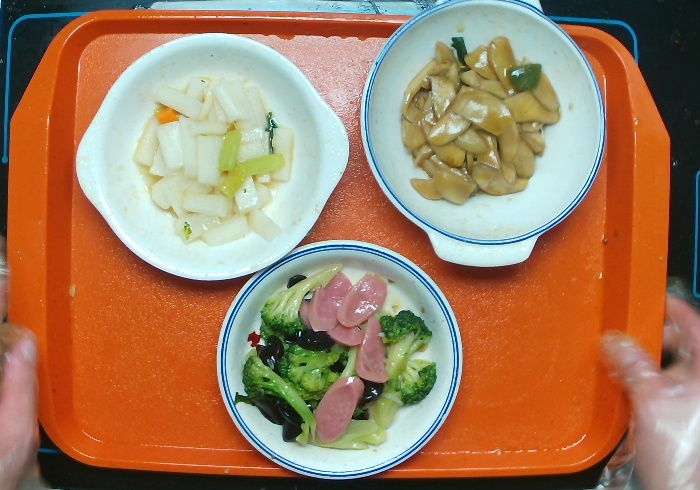HZYJPL-Dai_Er_Bai_Yuan_Wan: (67, 30, 354, 290)
HZYJPL-Lan_Bian_Dai_Er_Wan: (356, 1, 611, 277)
HZYJPL-Lan_Bian_Yuan_Die: (210, 233, 465, 485)
